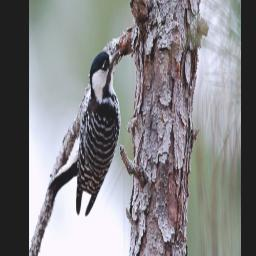Woodpecker: (48, 44, 124, 217)
